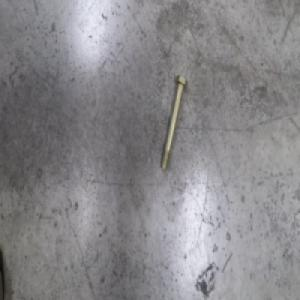Bolt: (159, 75, 188, 174)
